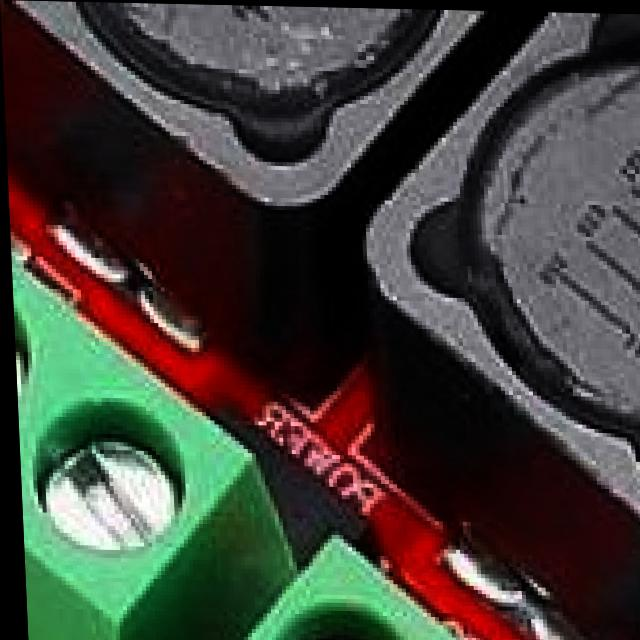connector: (7, 204, 230, 640), (155, 534, 640, 640)
inductor: (428, 7, 640, 507), (0, 0, 517, 161)
